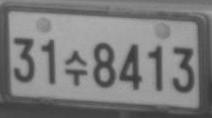1: (146, 44, 169, 92), (38, 38, 61, 85)
3: (171, 46, 196, 93), (13, 36, 35, 83)
4: (118, 42, 143, 90)
8: (92, 41, 116, 88)
수: (64, 49, 88, 86)
